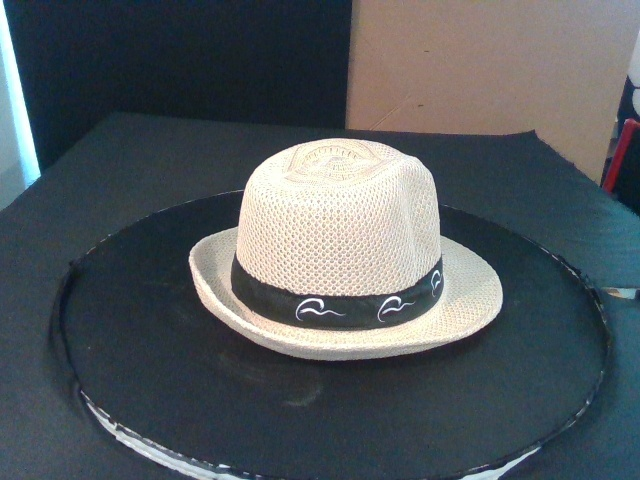hat: (191, 137, 504, 361)
